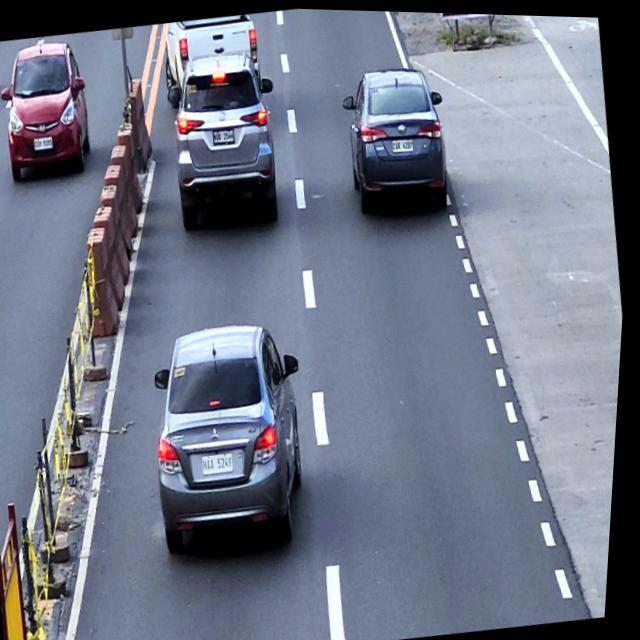Car: (140, 311, 330, 558), (161, 42, 294, 232), (334, 57, 460, 216), (0, 34, 101, 184), (158, 10, 267, 105)
License-Plate: (206, 450, 241, 475), (213, 126, 238, 145), (393, 134, 417, 153), (35, 135, 56, 150)
